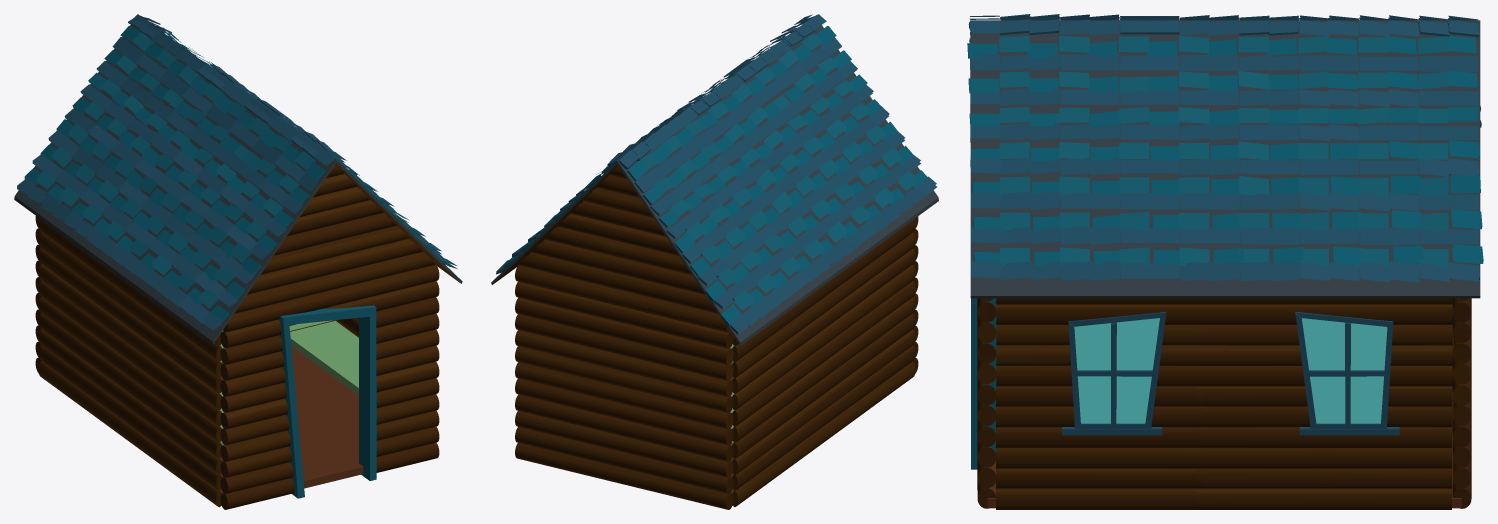
File: tool-shack.fbx
3 renders of one model, left to right at view 1: azimuth 30°, elevation 25°; view 2: azimuth 150°, elevation 25°; view 3: azimuth 270°, elevation 25°, orthographic. The views are drawn at different scales.
Visible parts, largest first — view 1: Cube.001; view 2: Cube.001; view 3: Cube.001.
Boxes of the visible parts, x1=… form: Cube.001: x1=14, y1=14, x2=462, y2=509; Cube.001: x1=491, y1=14, x2=938, y2=509; Cube.001: x1=967, y1=14, x2=1483, y2=509.
Size of the model in its own units: 625 by 797 by 871.
Materials: 13 (1 with a texture image).
